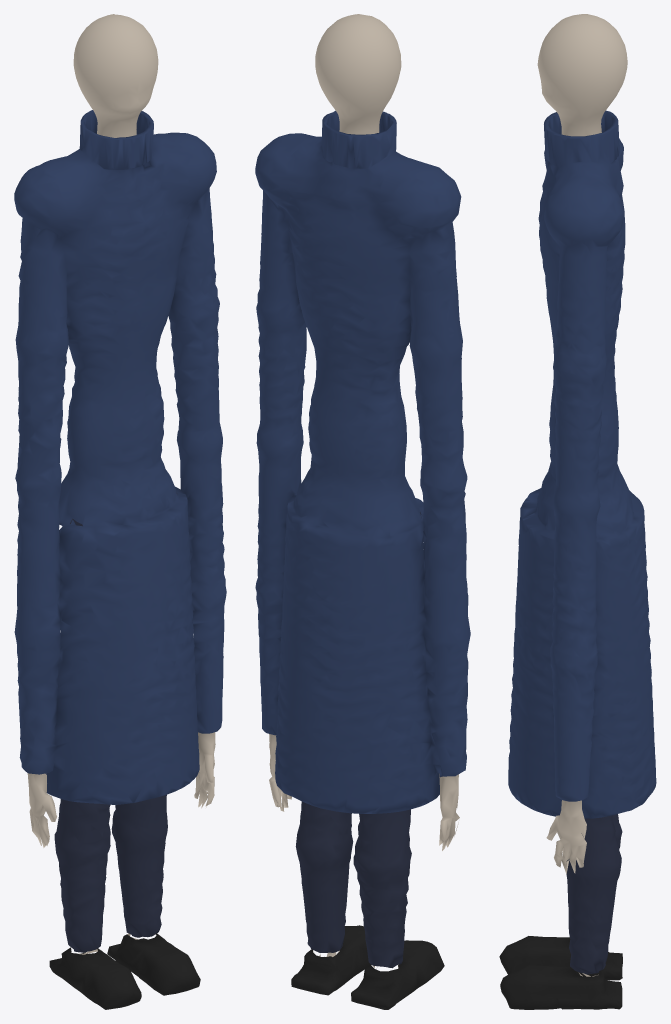
The model's file is roam.glb.
3 renders of one model, left to right at view 1: azimuth 30°, elevation 25°; view 2: azimuth 150°, elevation 25°; view 3: azimuth 270°, elevation 25°, orthographic.
Parts seen in each view (by area): view 1: dressed_roam_jacket, dressed_roam_trousers, dressed_roam_skin, dressed_roam_shoes; view 2: dressed_roam_jacket, dressed_roam_trousers, dressed_roam_skin, dressed_roam_shoes; view 3: dressed_roam_jacket, dressed_roam_skin, dressed_roam_shoes, dressed_roam_trousers.
Boxes of the visible parts, x1,y1,x2,y2 form: dressed_roam_jacket: [14, 110, 226, 804]; dressed_roam_trousers: [54, 492, 177, 952]; dressed_roam_skin: [27, 14, 215, 954]; dressed_roam_shoes: [49, 933, 200, 1009]; dressed_roam_jacket: [255, 110, 470, 813]; dressed_roam_trousers: [295, 512, 421, 968]; dressed_roam_skin: [269, 14, 459, 967]; dressed_roam_shoes: [291, 925, 444, 1009]; dressed_roam_jacket: [508, 110, 656, 818]; dressed_roam_skin: [537, 14, 627, 976]; dressed_roam_shoes: [499, 936, 622, 1009]; dressed_roam_trousers: [566, 814, 622, 974].
Bounding box in the file's own units: 0.5834 × 2.6 × 0.3813.
